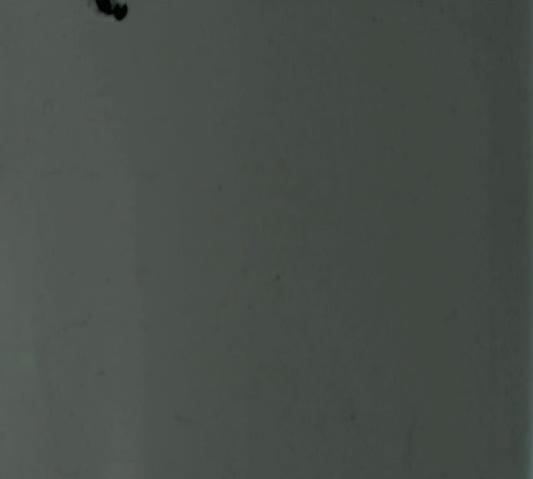kongdong: (88, 1, 135, 26)
